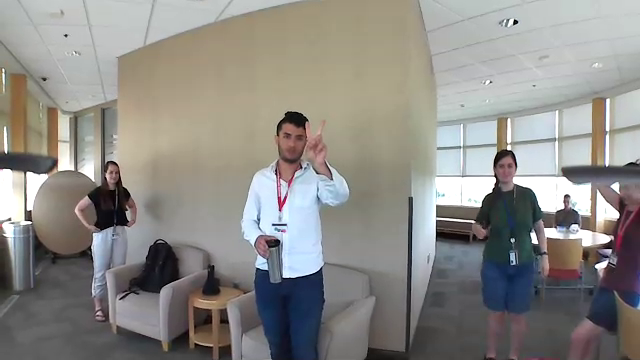peace: (299, 112, 336, 169)
